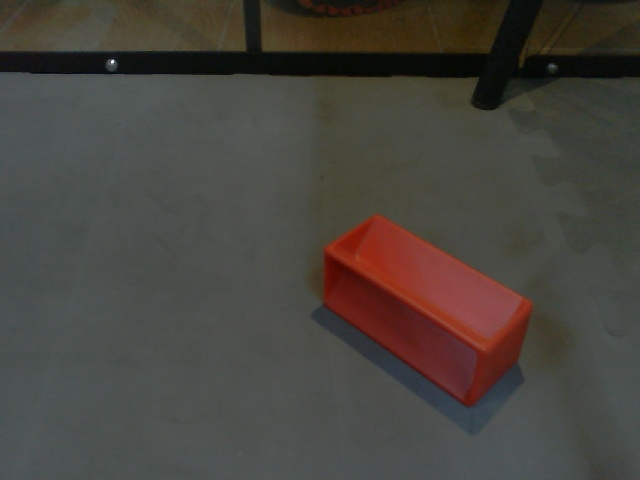RedSample: (321, 211, 534, 413)
